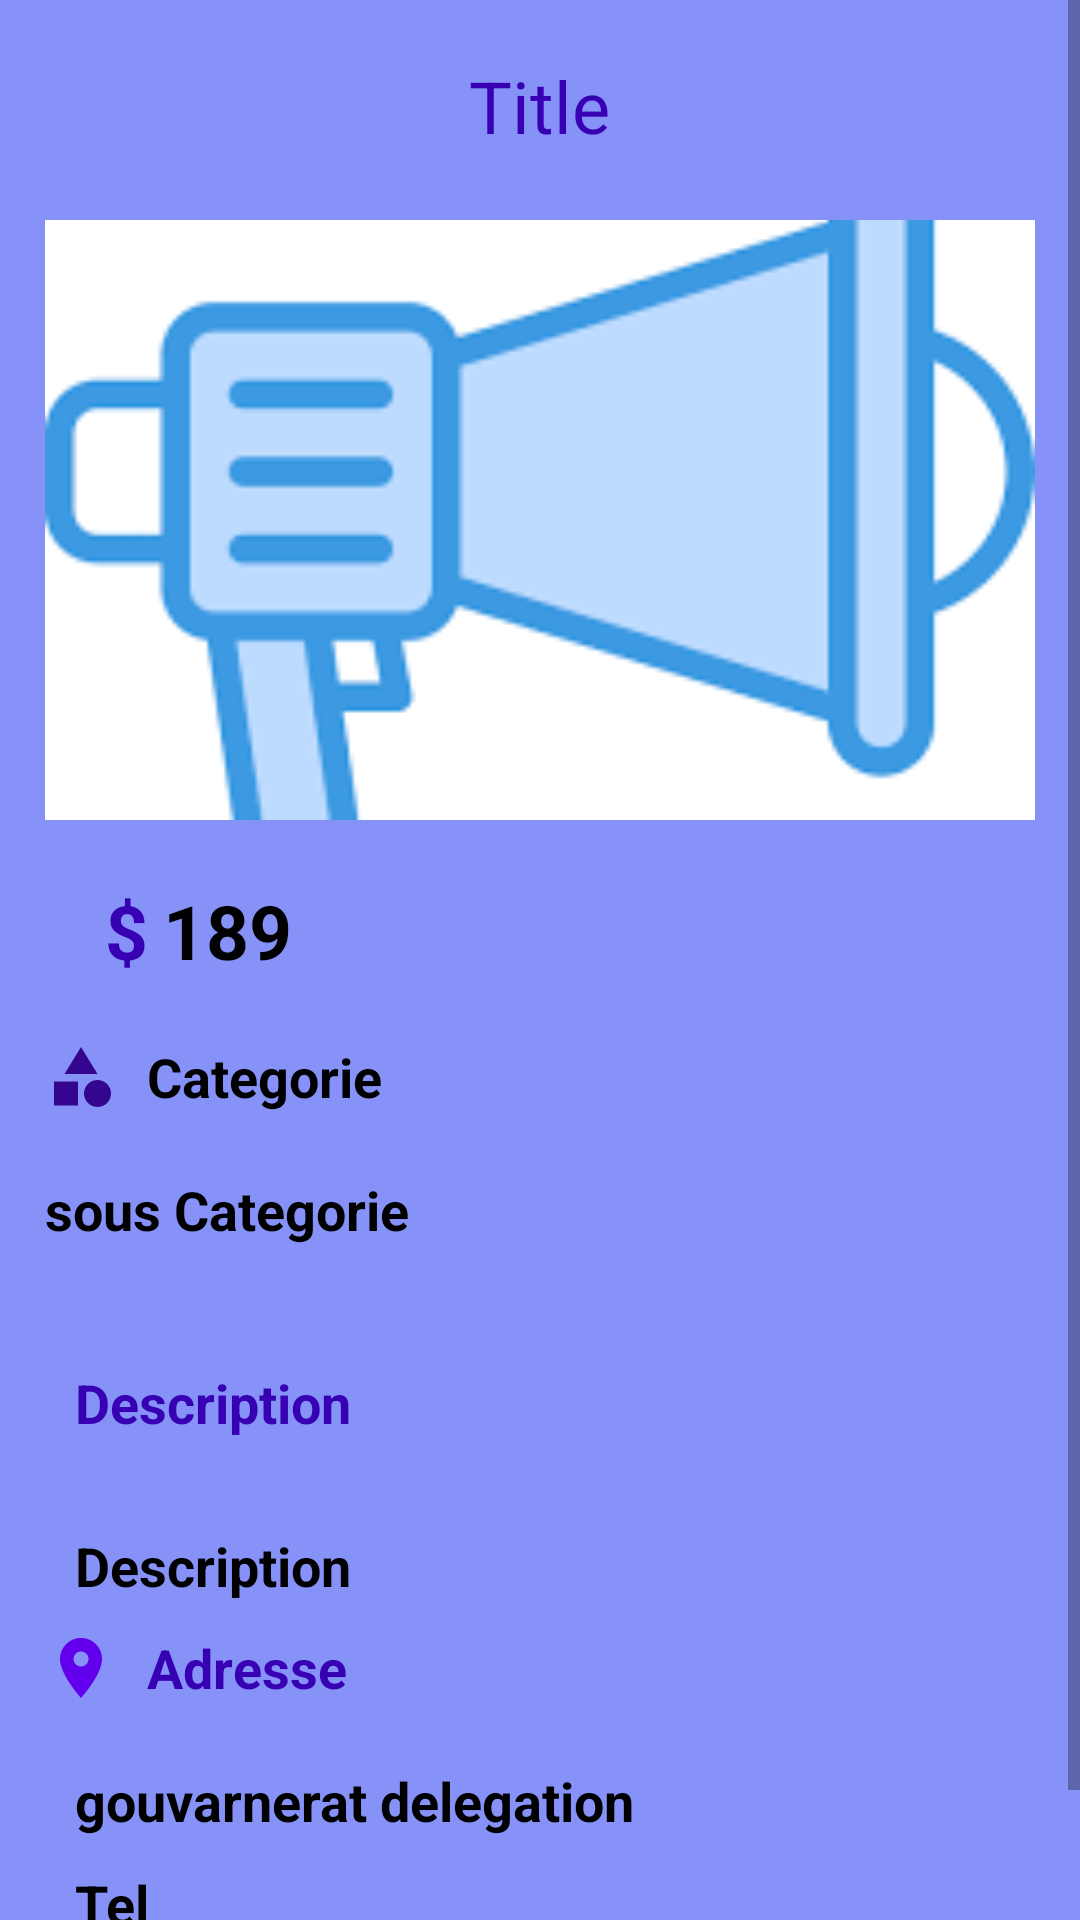

Icons on this 1080w x 1920h Android screen, each with the point to tap as point (x, y):
category: point (82, 1077)
location on: point (81, 1668)
